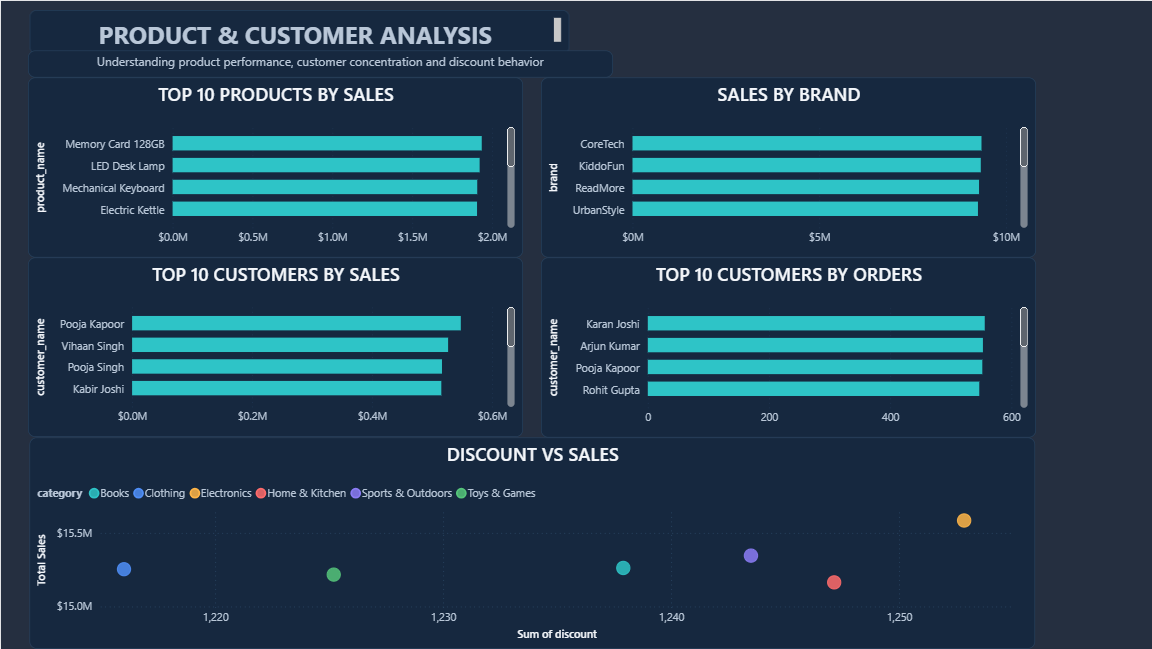

The dashboard page shown, as its layout file describes it:
{"tool":"powerbi","page":{"name":"Product & Customer Analysis","canvas":[1280,720],"ordinal":1},"visuals":[{"type":"textbox","box":[31.7,10,600,48.3],"z":0},{"type":"textbox","box":[30,55,650,30],"z":1000},{"type":"clusteredBarChart","title":"TOP 10 PRODUCTS BY SALES","fields":{"Category":["ecommerce amazon_sales.product_name"],"Y":["ecommerce amazon_sales.Total Sales"]},"box":[30,85,550,200],"z":2000},{"type":"clusteredBarChart","title":"SALES BY BRAND","fields":{"Category":["ecommerce amazon_sales.brand"],"Y":["ecommerce amazon_sales.Total Sales"]},"box":[600,85,550,200],"z":3000},{"type":"clusteredBarChart","title":"TOP 10 CUSTOMERS BY SALES","fields":{"Category":["ecommerce amazon_sales.customer_name"],"Y":["ecommerce amazon_sales.Total Sales"]},"box":[30,285,550,199],"z":4000},{"type":"clusteredBarChart","title":"TOP 10 CUSTOMERS BY ORDERS","fields":{"Y":["ecommerce amazon_sales.Total Orders"],"Category":["ecommerce amazon_sales.customer_name"]},"box":[600,285,550,200],"z":5000},{"type":"scatterChart","title":"DISCOUNT VS SALES","fields":{"X":["Sum(ecommerce amazon_sales.discount)"],"Y":["ecommerce amazon_sales.Total Sales"],"Series":["ecommerce amazon_sales.category"],"Size":["ecommerce amazon_sales.Total Orders"]},"box":[32.4,485.8,1117.3,234.8],"z":6000}]}

Visuals, with their boxes in screenshot pixels (x1, y1, x2, y2), scaled from the page's 1280x720 canvas onto the 1152x649 screenshot:
textbox: (29, 9, 569, 53)
textbox: (27, 50, 612, 77)
"TOP 10 PRODUCTS BY SALES" clusteredBarChart: (27, 77, 522, 257)
"SALES BY BRAND" clusteredBarChart: (540, 77, 1035, 257)
"TOP 10 CUSTOMERS BY SALES" clusteredBarChart: (27, 257, 522, 436)
"TOP 10 CUSTOMERS BY ORDERS" clusteredBarChart: (540, 257, 1035, 437)
"DISCOUNT VS SALES" scatterChart: (29, 438, 1035, 648)
